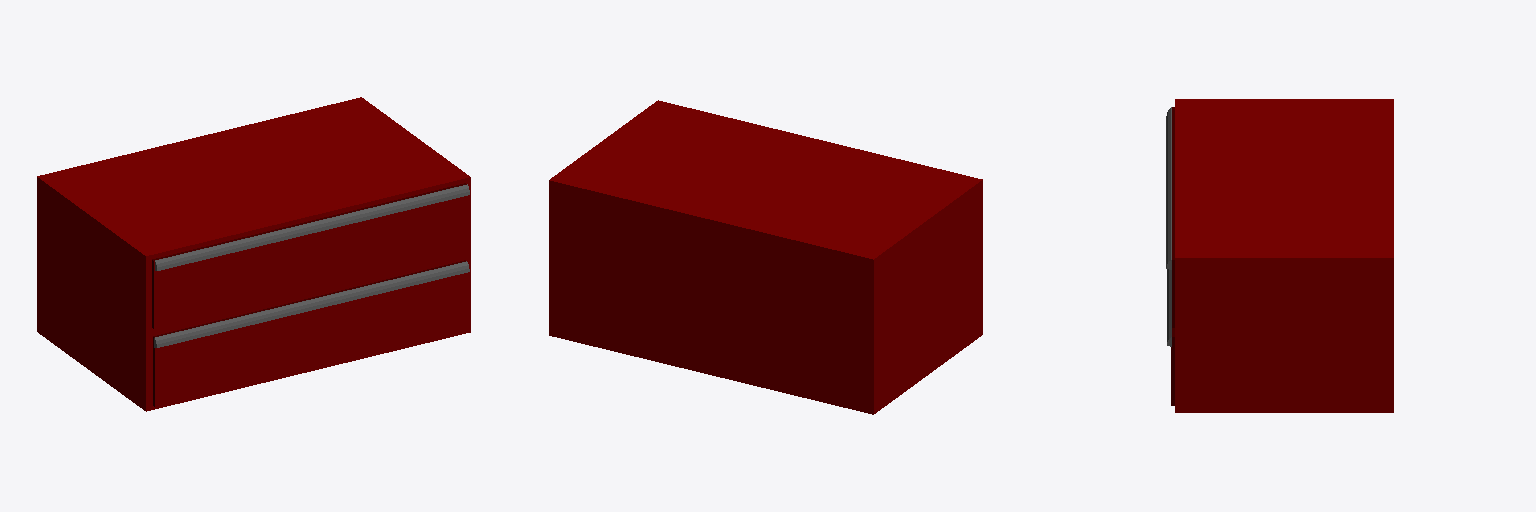
File: Tool_Box.obj
The picture shows the model from 3 angles: view 1: azimuth 30°, elevation 25°; view 2: azimuth 150°, elevation 25°; view 3: azimuth 270°, elevation 25°; orthographic projection.
Parts seen in each view (by area): view 1: Plane, Plane.003, Plane.002, Plane.001; view 2: Plane; view 3: Plane, Plane.001, Plane.002.
Part boxes in pixels (x1,y1,x2,y2): Plane: (37,97,470,411); Plane.003: (154,261,469,347); Plane.002: (155,184,469,270); Plane.001: (152,183,466,406); Plane: (549,100,982,414); Plane: (1175,99,1393,412); Plane.001: (1171,107,1174,405); Plane.002: (1166,107,1171,269).
Bounding box in the file's own units: 0.5673 × 0.259 × 0.3433.